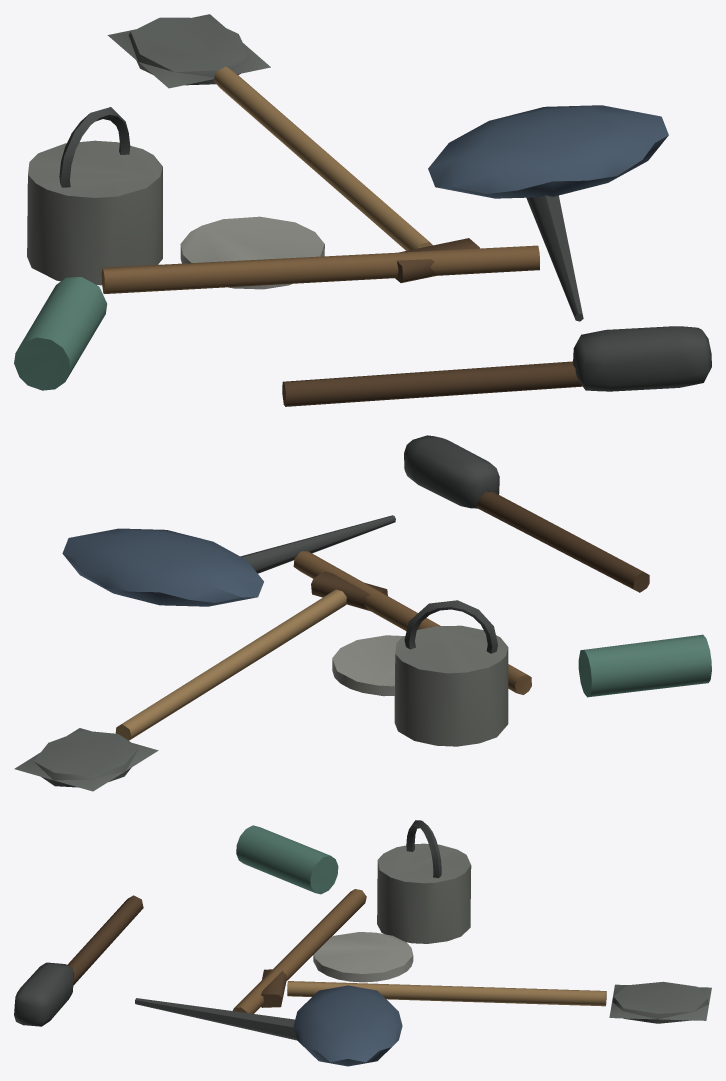
File: tool_drop_c_lod1.glb
3 renders of one model, top to bottom at view 1: azimuth 30°, elevation 25°; view 2: azimuth 150°, elevation 25°; view 3: azimuth 270°, elevation 25°, orthographic. The views are drawn at different scales.
Visible parts, largest first — view 1: Surface.001; view 2: Surface.001; view 3: Surface.001.
Boxes of the visible parts, x1,y1,x2,y2 form: Surface.001: (14, 14, 711, 406); Surface.001: (14, 435, 711, 791); Surface.001: (14, 820, 711, 1066).
Bounding box in the file's own units: 1.86 × 0.3687 × 2.3.
